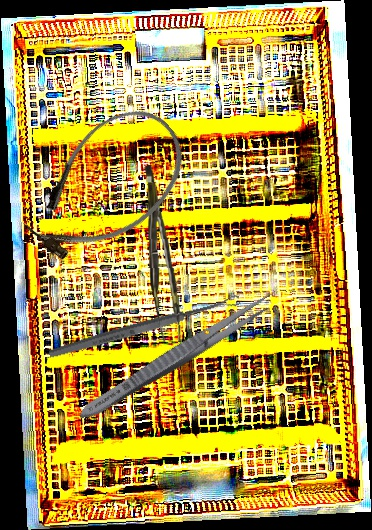Cannula: (7, 89, 205, 283)
Dressing Forceps: (73, 286, 280, 428)
Surgical Spoon: (47, 293, 242, 361)
Tissue Forceps: (144, 164, 182, 343)
